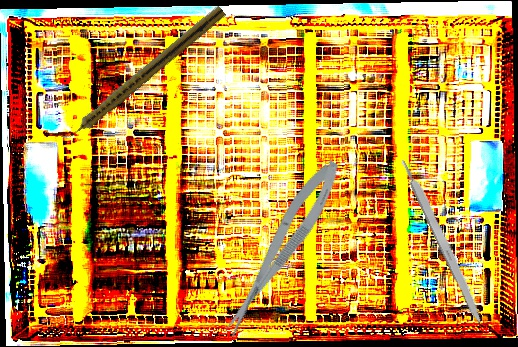Handpiece: (58, 2, 227, 147)
Micro Scissor: (211, 154, 350, 341)
Scalpel Handle: (399, 156, 488, 328)
